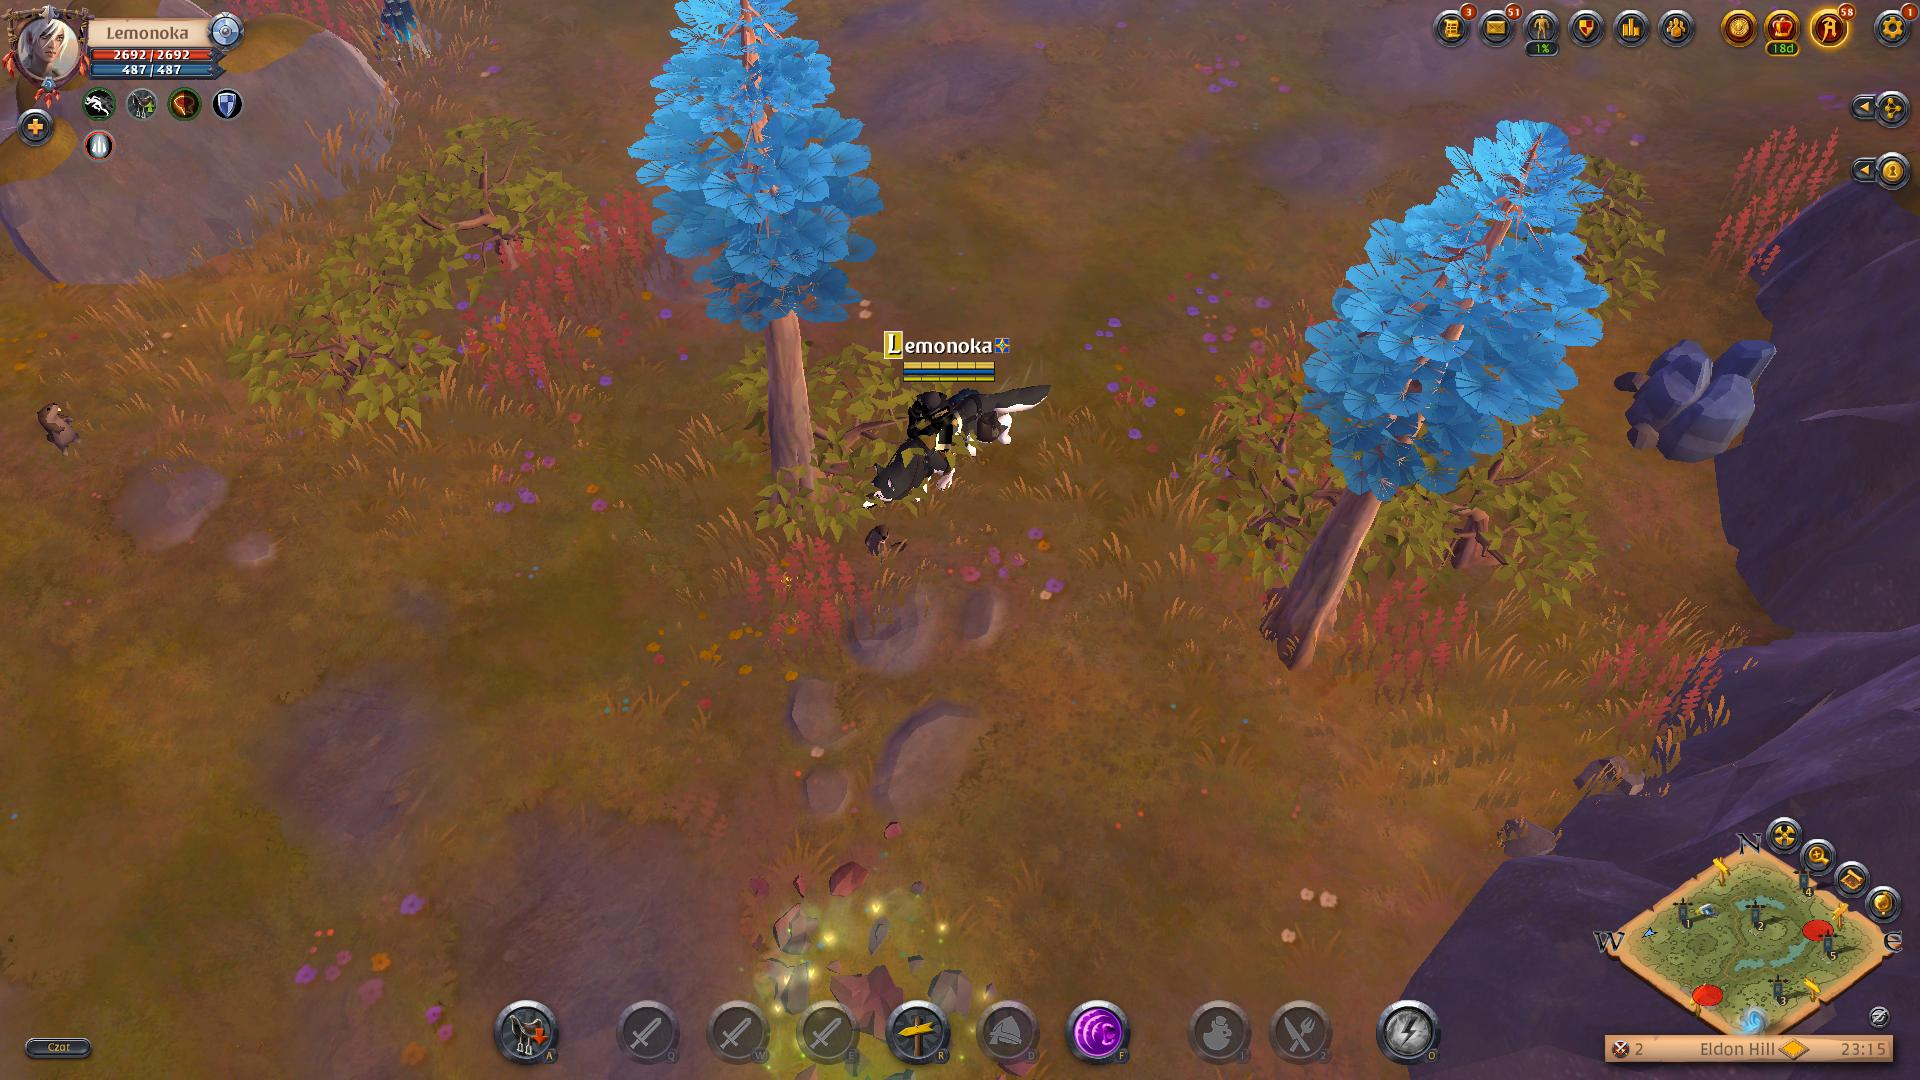ore tier 4: (371, 0, 450, 71)
rock tier 4: (1617, 335, 1783, 462)
wood tier 4: (1307, 115, 1605, 510), (628, 0, 885, 334)
